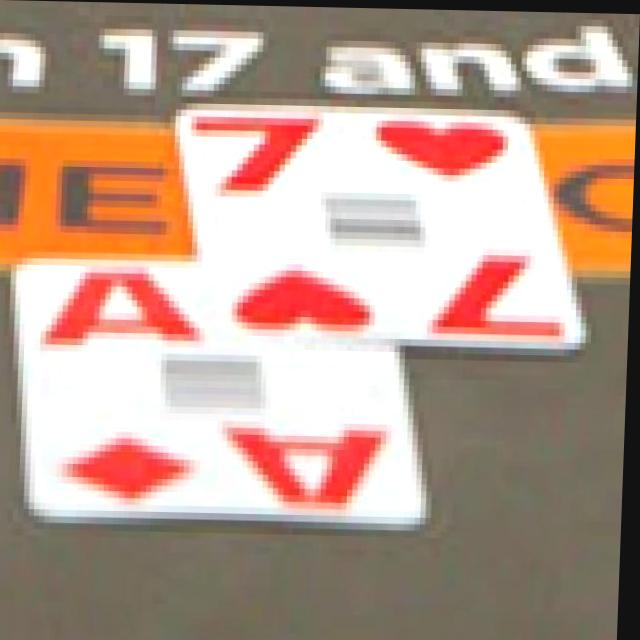Card-7: (179, 104, 588, 349)
Card-A: (20, 260, 428, 524)
